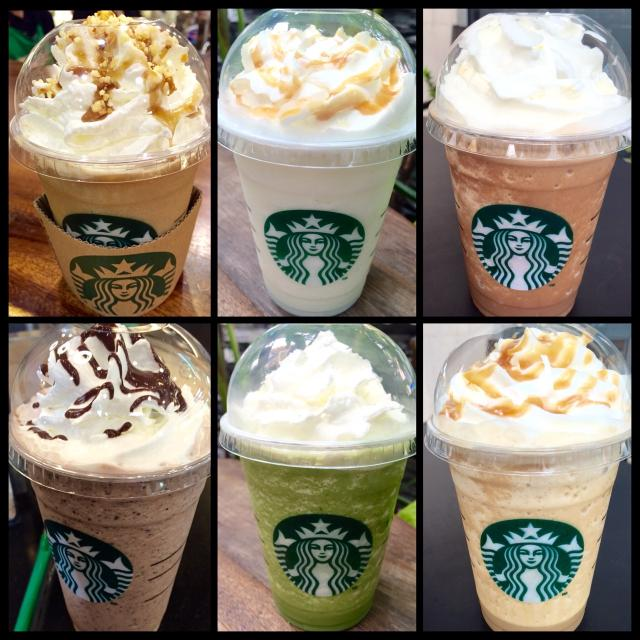cup: (422, 321, 632, 631), (427, 11, 631, 315), (10, 323, 210, 631), (219, 10, 417, 316), (218, 324, 416, 630), (14, 14, 209, 310)
